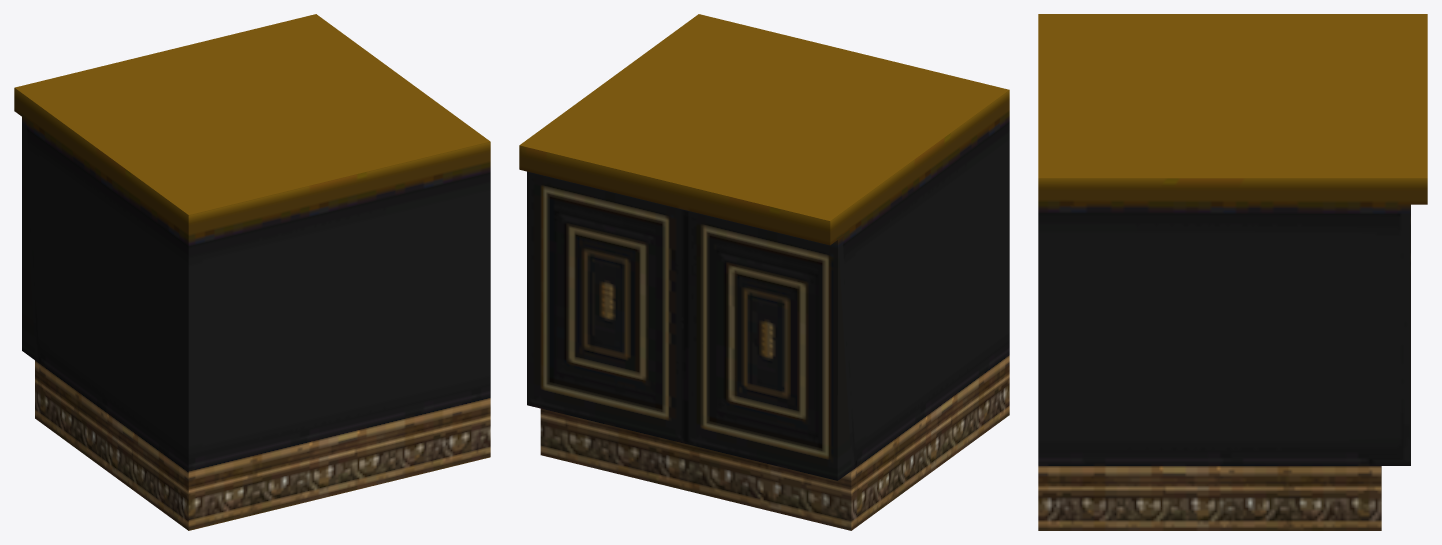
The model's file is furni_0200320_03.FBX.
The picture shows the model from 3 angles, left to right: view 1: azimuth 30°, elevation 25°; view 2: azimuth 150°, elevation 25°; view 3: azimuth 270°, elevation 25°; orthographic projection. The views are drawn at different scales.
Visible parts, largest first — view 1: furni_0200320_03; view 2: furni_0200320_03; view 3: furni_0200320_03.
Boxes of the visible parts, <box> form: furni_0200320_03: <box>14,14,490,530</box>; furni_0200320_03: <box>519,14,1009,530</box>; furni_0200320_03: <box>1038,14,1427,530</box>.
Bounding box in the file's own units: 80 × 80 × 80.
